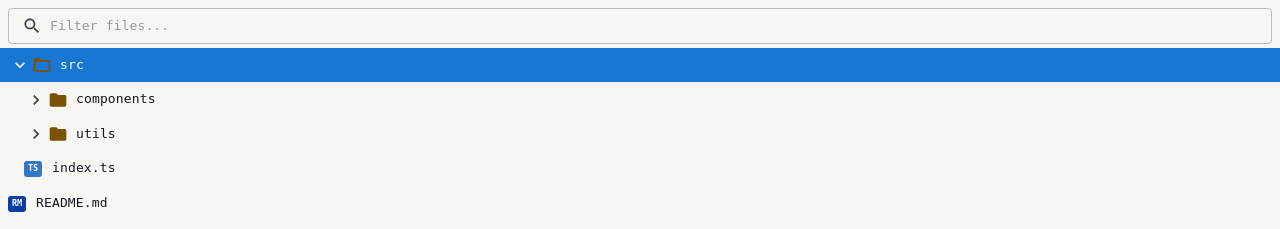
FileTree › chevron vs. directory row (#572) › name click on the already-selected, expanded directory collapses it without re-selecting
The image size is (1280, 229).
Expected: the text "components" is shown, [76,91,156,106]
Click the button "src": [42, 65] box [32,48,1279,82]
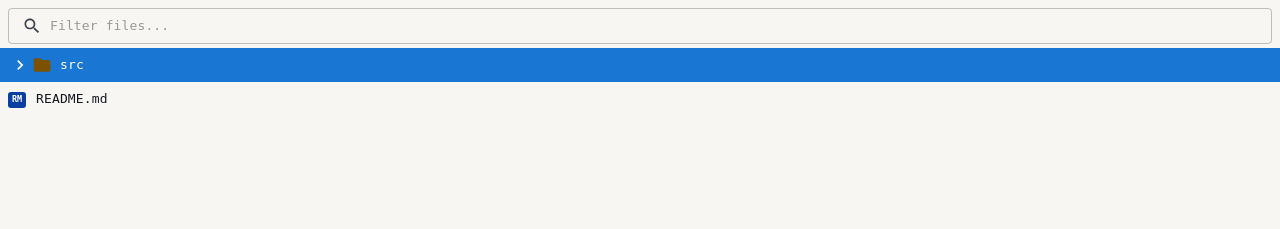
Now the button "components" is gone
